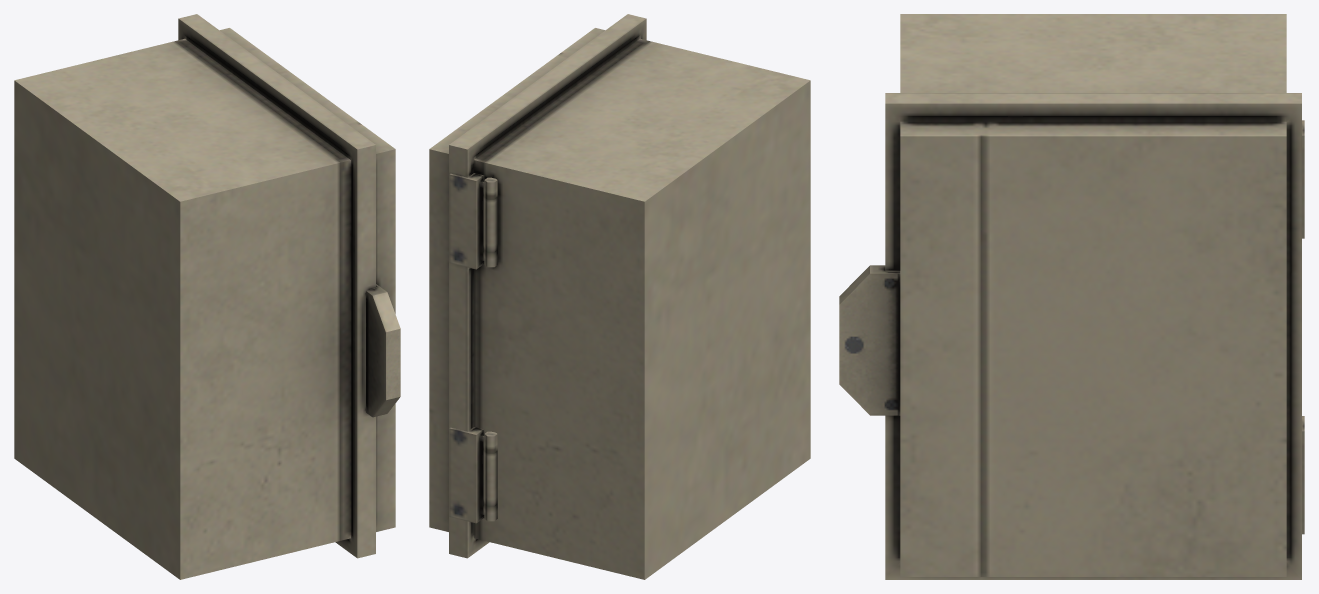
Rendered from AE_Electricity_Meter_03.fbx.
3 renders of one model, left to right at view 1: azimuth 30°, elevation 25°; view 2: azimuth 150°, elevation 25°; view 3: azimuth 270°, elevation 25°, orthographic. The views are drawn at different scales.
Parts seen in each view (by area): view 1: AE_Electricity_Meter_03_LOD0; view 2: AE_Electricity_Meter_03_LOD0; view 3: AE_Electricity_Meter_03_LOD0.
Part boxes in pixels (bbox=[...]): AE_Electricity_Meter_03_LOD0: bbox=[14, 14, 400, 579]; AE_Electricity_Meter_03_LOD0: bbox=[429, 14, 810, 579]; AE_Electricity_Meter_03_LOD0: bbox=[839, 14, 1304, 579].
Size of what is drawn, in the model's own units: 14.17 by 25.7 by 22.77.
